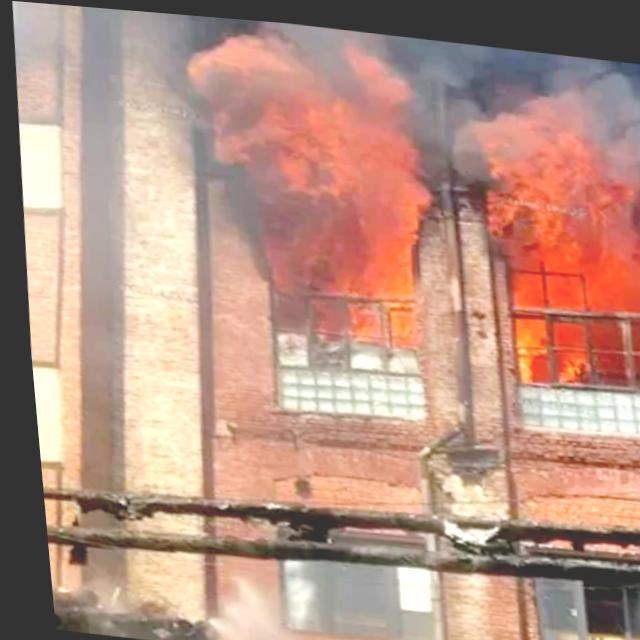Smoke: (170, 11, 438, 209), (433, 32, 640, 198)
